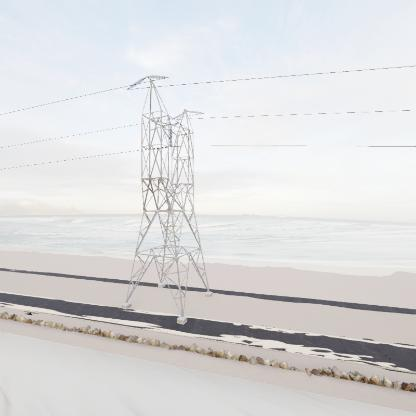tower: (120, 73, 215, 326)
